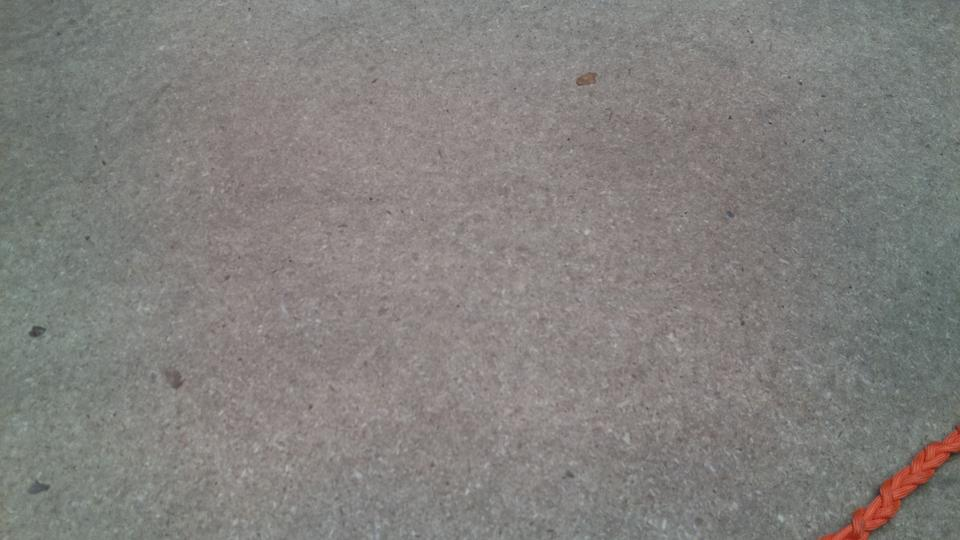rope: (857, 438, 960, 540)
